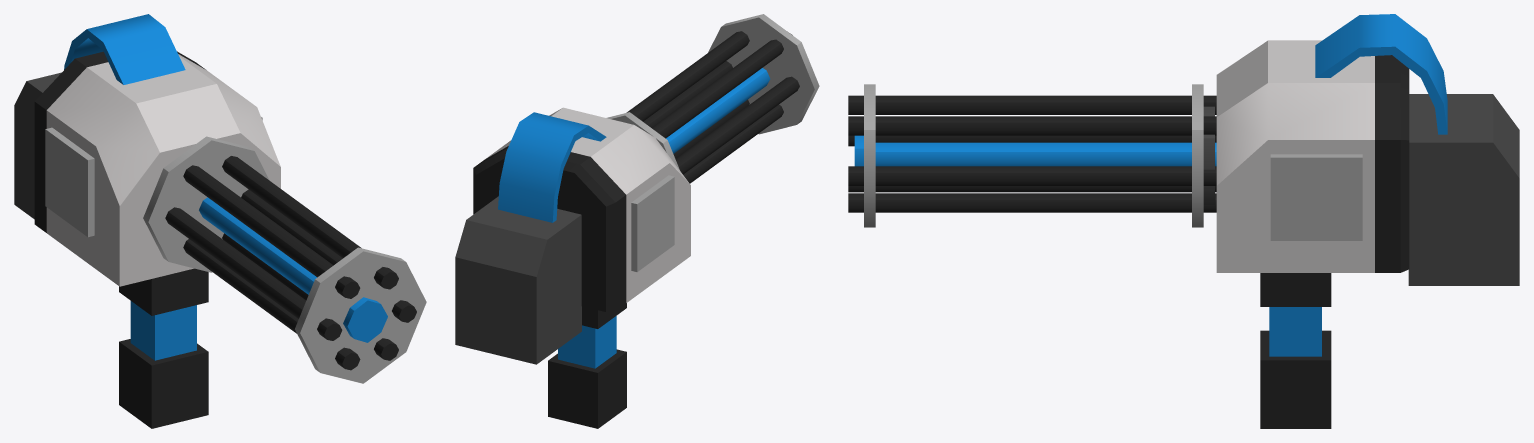
Rendered from Gatling.fbx.
3 views of the same model, side by side, from view 1: azimuth 30°, elevation 25°; view 2: azimuth 150°, elevation 25°; view 3: azimuth 270°, elevation 25° (orthographic). The views are drawn at different scales.
Parts seen in each view (by area): view 1: Rod9, Base, Spinner2, Spinner1, BulletLoad, L2, Rod6, Rod3, Rod5, Bullet, Rod1, Rod7 (+3 smaller); view 2: Bullet, Rod9, Base, BulletLoad, Spinner2, L2, Rod6, Rod3, Rod5, Rod1, Rod7, Rod2 (+2 smaller); view 3: Rod9, Bullet, Base, L1, Rod1, Rod5, Rod2, Rod6, Rod4, BulletLoad, Rod3, Rod7 (+3 smaller).
Part boxes in pixels (<box>): Rod9: <box>34,51,280,286</box>; Base: <box>119,268,208,428</box>; Spinner2: <box>295,247,426,383</box>; Spinner1: <box>143,136,269,272</box>; BulletLoad: <box>64,14,185,84</box>; L2: <box>45,127,94,237</box>; Rod6: <box>183,165,360,298</box>; Rod3: <box>165,207,342,340</box>; Rod5: <box>222,156,398,289</box>; Bullet: <box>14,72,61,219</box>; Rod1: <box>199,197,316,294</box>; Rod7: <box>183,239,360,370</box>; Bullet: <box>455,196,581,364</box>; Rod9: <box>473,107,690,311</box>; Base: <box>548,303,626,428</box>; BulletLoad: <box>498,112,606,222</box>; Spinner2: <box>708,14,819,134</box>; L2: <box>631,175,674,271</box>; Rod6: <box>651,33,792,138</box>; Rod3: <box>675,76,799,174</box>; Rod5: <box>626,31,749,121</box>; Rod1: <box>666,68,770,153</box>; Rod7: <box>683,104,783,183</box>; Rod2: <box>643,61,732,127</box>; Rod9: <box>1216,40,1409,272</box>; Bullet: <box>1408,94,1519,285</box>; Base: <box>1260,273,1331,428</box>; L1: <box>1270,154,1362,240</box>; Rod1: <box>875,142,1216,166</box>; Rod5: <box>848,116,1216,135</box>; Rod2: <box>848,166,1216,185</box>; Rod6: <box>848,95,1216,114</box>; Rod4: <box>848,193,1216,212</box>; BulletLoad: <box>1315,14,1447,134</box>; Rod3: <box>848,135,1216,146</box>; Rod7: <box>848,186,1216,192</box>.
Size of the model in its own units: 1.38 by 2.68 by 4.25.
